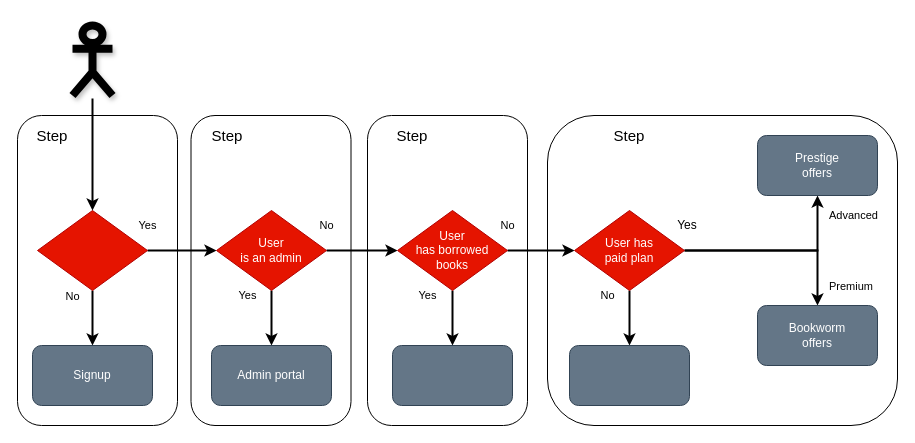
The diagram is 915 pixels wide and 443 high, and some of its shapes have lost their labels. The centre of each missing label's shape, as x and y in pixels:
Leased books: the point at 452,375
Mainstream offers: the point at 629,375
User exists: the point at 92,250
